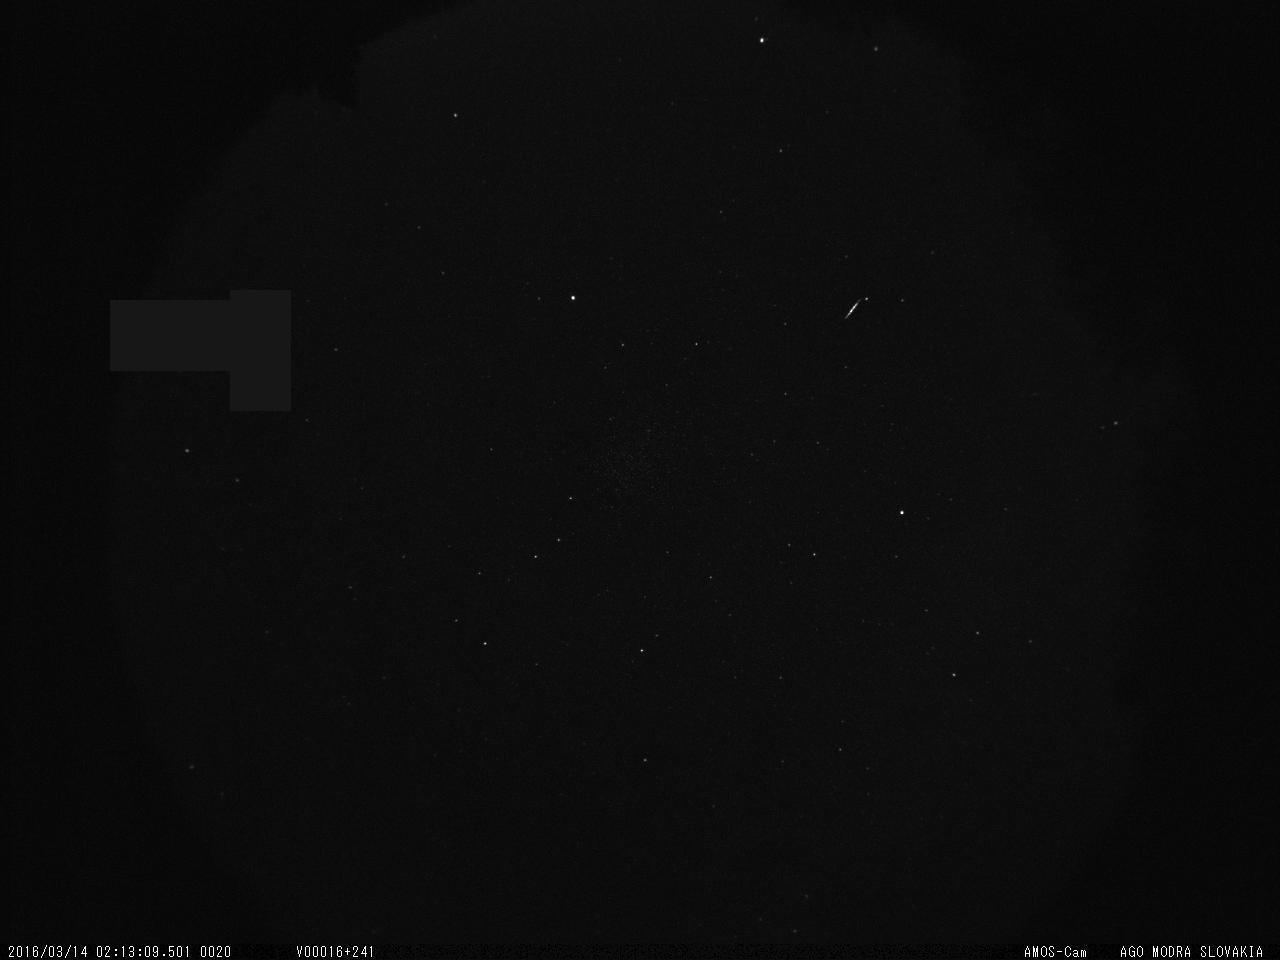meteor: (831, 292, 882, 329)
